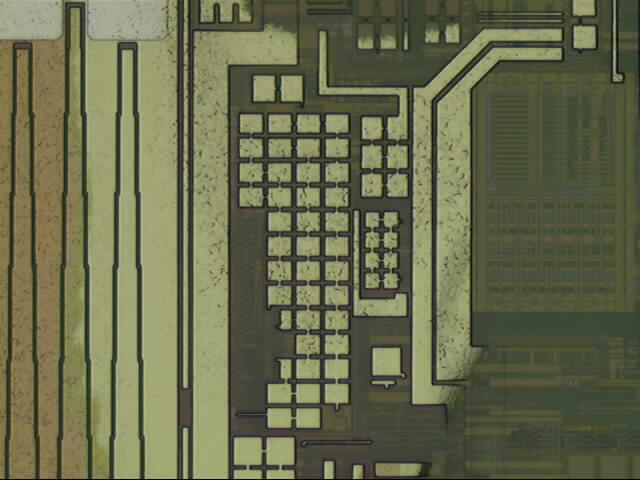COATING BAD: (55, 1, 567, 480)
